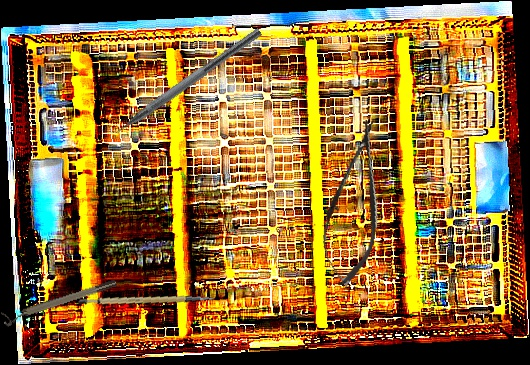Chopper: (96, 16, 263, 147)
Fixation Ring: (0, 277, 120, 328)
Micro Scissor: (313, 116, 396, 290)
Scalpel Handle: (77, 280, 217, 323)
